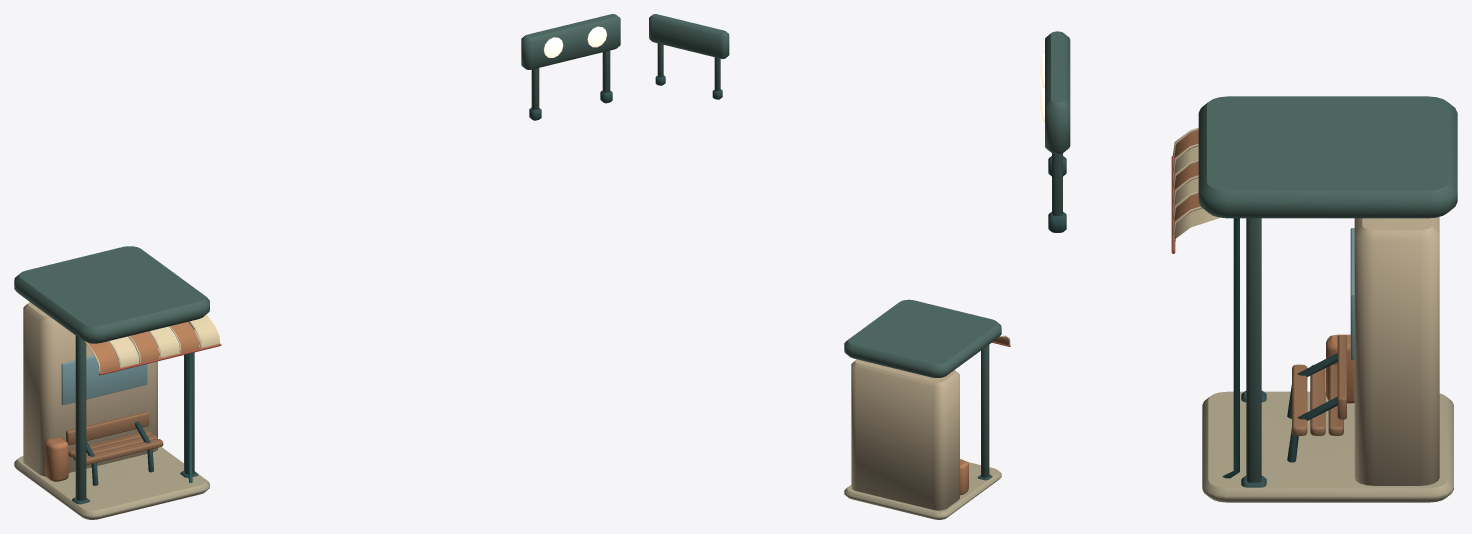
File: wilderness_motel_4.glb
3 renders of one model, left to right at view 1: azimuth 30°, elevation 25°; view 2: azimuth 150°, elevation 25°; view 3: azimuth 270°, elevation 25°, orthographic. The views are drawn at different scales.
Visible parts, largest first — view 1: WildernessMotel4; view 2: WildernessMotel4; view 3: WildernessMotel4.
Boxes of the visible parts, x1,y1,x2,y2 form: WildernessMotel4: (14, 14, 620, 519); WildernessMotel4: (649, 14, 1010, 519); WildernessMotel4: (1039, 31, 1457, 502).
Bounding box in the file's own units: 8.93 × 7.41 × 4.12.
